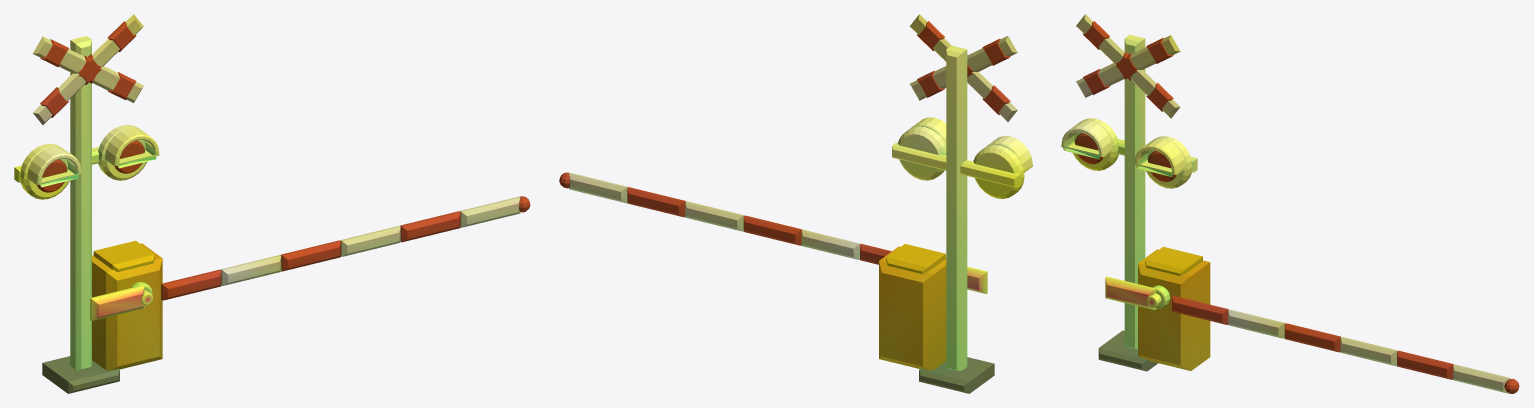
Rendered from Prop_LevelCrossing.fbx.
3 views of the same model, side by side, from view 1: azimuth 30°, elevation 25°; view 2: azimuth 150°, elevation 25°; view 3: azimuth 330°, elevation 25° (orthographic). The views are drawn at different scales.
Parts seen in each view (by area): view 1: Prop_LevelCrossing, Boom; view 2: Prop_LevelCrossing, Boom; view 3: Prop_LevelCrossing, Boom.
Part boxes in pixels (x1,y1,x2,y2): Prop_LevelCrossing: [14, 14, 162, 393]; Boom: [90, 196, 530, 320]; Prop_LevelCrossing: [879, 14, 1032, 393]; Boom: [559, 172, 987, 293]; Prop_LevelCrossing: [1061, 14, 1210, 371]; Boom: [1105, 276, 1519, 393].
Bounding box in the file's own units: 4.19 × 2.91 × 0.58.
